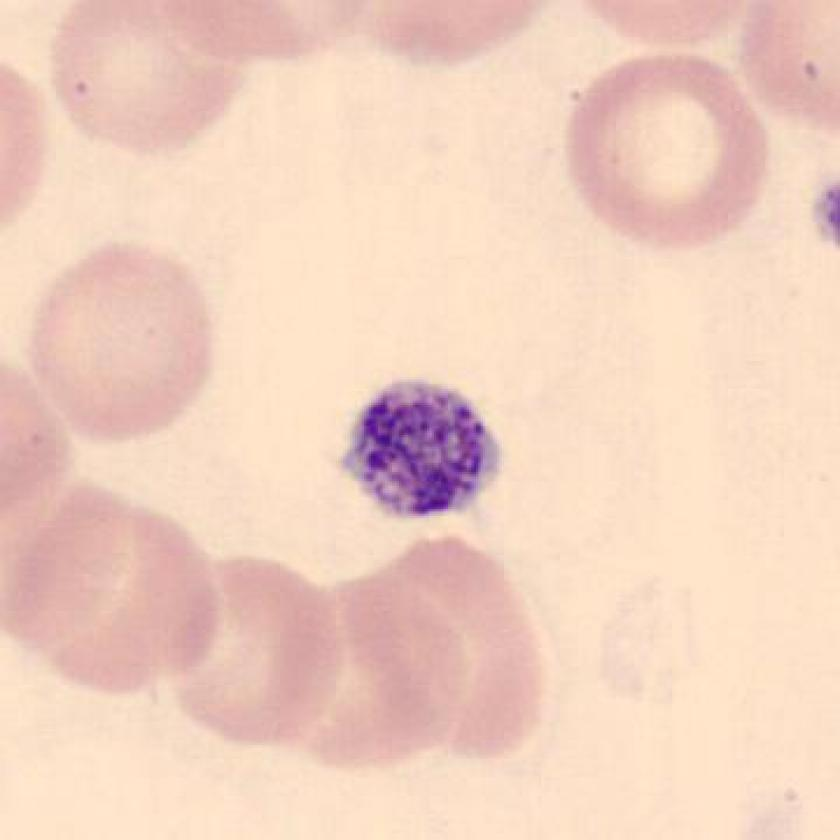platelets: (325, 367, 519, 536)
